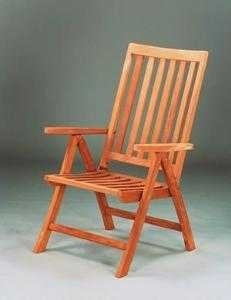obstacle: (33, 43, 207, 277)
